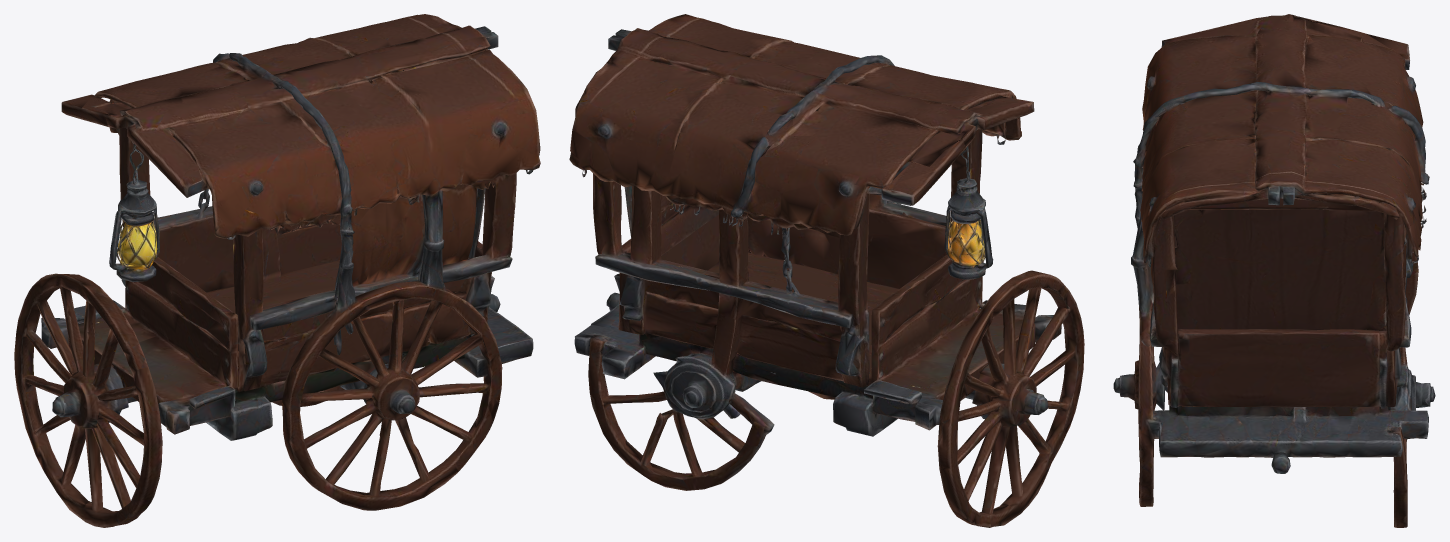
Rendered from cart.glb.
The picture shows the model from 3 angles, left to right: view 1: azimuth 30°, elevation 25°; view 2: azimuth 150°, elevation 25°; view 3: azimuth 270°, elevation 25°; orthographic projection.
Bounding box in the file's own units: 1.9 × 1.62 × 1.19.
Materials: 1 (1 with a texture image).
